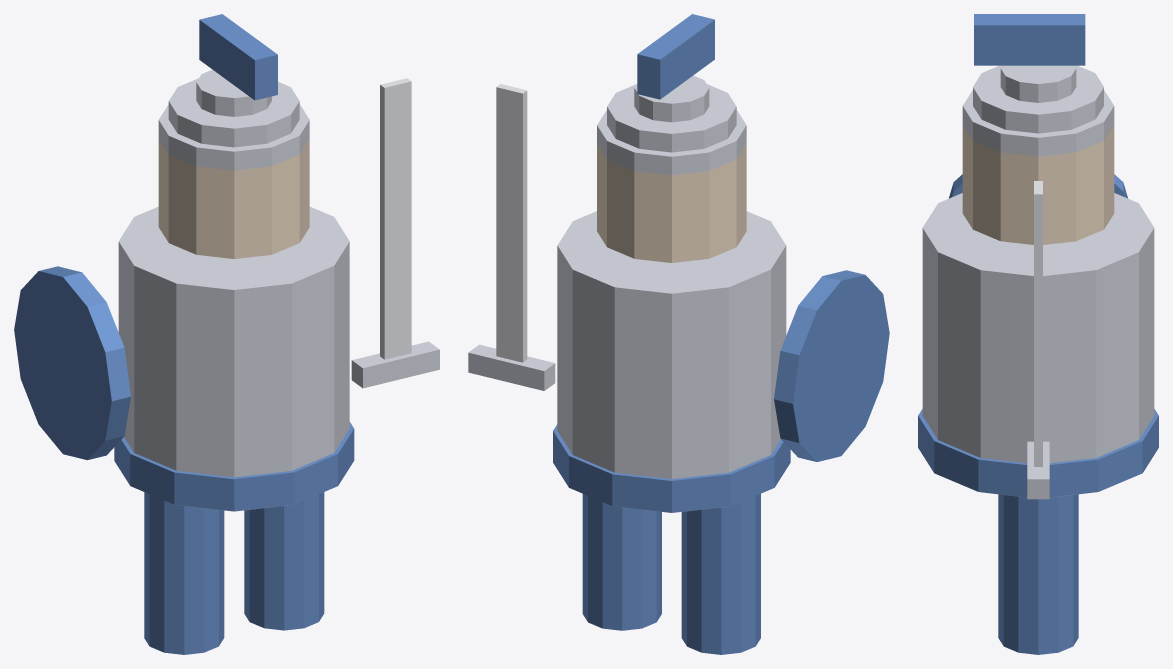
The model's file is hero_knight.glb.
3 views of the same model, side by side, from view 1: azimuth 30°, elevation 25°; view 2: azimuth 150°, elevation 25°; view 3: azimuth 270°, elevation 25° (orthographic).
Visible parts, largest first — view 1: hero_torso, hero_shield, hero_head, hero_leg, hero_leg.001, hero_blade, hero_belt, hero_helm_ring1, hero_plume, hero_helm_ring0, hero_guard, hero_helm_ring2; view 2: hero_torso, hero_shield, hero_head, hero_leg, hero_leg.001, hero_blade, hero_belt, hero_helm_ring1, hero_plume, hero_helm_ring0, hero_guard, hero_helm_ring2; view 3: hero_torso, hero_head, hero_leg.001, hero_belt, hero_plume, hero_helm_ring1, hero_helm_ring0, hero_helm_ring2, hero_blade, hero_guard, hero_shield.
Boxes of the visible parts, bbox=[...] form: hero_torso: bbox=[118, 206, 349, 511]; hero_shield: bbox=[14, 266, 130, 460]; hero_head: bbox=[158, 139, 309, 258]; hero_leg: bbox=[144, 492, 224, 654]; hero_leg.001: bbox=[244, 492, 324, 630]; hero_blade: bbox=[380, 78, 411, 359]; hero_belt: bbox=[114, 422, 354, 511]; hero_helm_ring1: bbox=[168, 78, 299, 147]; hero_plume: bbox=[199, 14, 277, 100]; hero_helm_ring0: bbox=[158, 104, 309, 170]; hero_guard: bbox=[351, 341, 439, 388]; hero_helm_ring2: bbox=[196, 69, 271, 116]; hero_torso: bbox=[557, 211, 786, 512]; hero_shield: bbox=[774, 270, 889, 461]; hero_head: bbox=[597, 144, 746, 262]; hero_leg: bbox=[681, 493, 760, 654]; hero_leg.001: bbox=[582, 494, 661, 630]; hero_blade: bbox=[496, 84, 527, 362]; hero_belt: bbox=[553, 424, 790, 512]; hero_helm_ring1: bbox=[607, 84, 736, 152]; hero_plume: bbox=[637, 14, 714, 99]; hero_helm_ring0: bbox=[597, 110, 746, 175]; hero_guard: bbox=[468, 344, 555, 390]; hero_helm_ring2: bbox=[634, 75, 709, 122]; hero_torso: bbox=[922, 193, 1154, 497]; hero_head: bbox=[962, 125, 1114, 244]; hero_leg.001: bbox=[998, 494, 1078, 654]; hero_belt: bbox=[918, 409, 1158, 497]; hero_plume: bbox=[974, 14, 1085, 65]; hero_helm_ring1: bbox=[973, 65, 1103, 133]; hero_helm_ring0: bbox=[962, 90, 1114, 156]; hero_helm_ring2: bbox=[1000, 65, 1076, 102]; hero_blade: bbox=[1034, 181, 1042, 466]; hero_guard: bbox=[1027, 441, 1049, 499]; hero_shield: bbox=[949, 174, 1127, 198].
Bounding box in the file's own units: 0.965 × 1.47 × 0.54.
